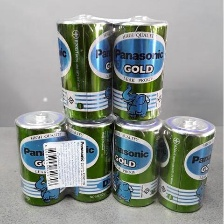battery: (108, 9, 170, 126), (53, 11, 118, 120), (11, 106, 69, 209), (155, 114, 214, 214), (59, 107, 113, 205), (108, 109, 160, 210)
